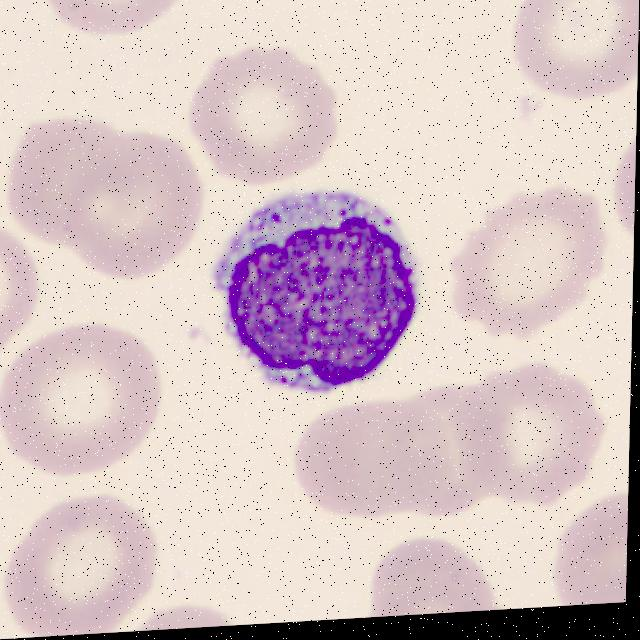lymphocyte: (207, 187, 432, 403)
rbc: (2, 320, 159, 475), (8, 486, 166, 638), (61, 105, 199, 278), (452, 187, 610, 338), (460, 358, 599, 514), (185, 50, 340, 185), (297, 401, 447, 523), (394, 378, 516, 521), (6, 122, 129, 252), (518, 0, 640, 105), (368, 535, 499, 617), (555, 499, 628, 606), (48, 0, 181, 39), (0, 220, 34, 353), (608, 135, 636, 253), (137, 603, 235, 631)
